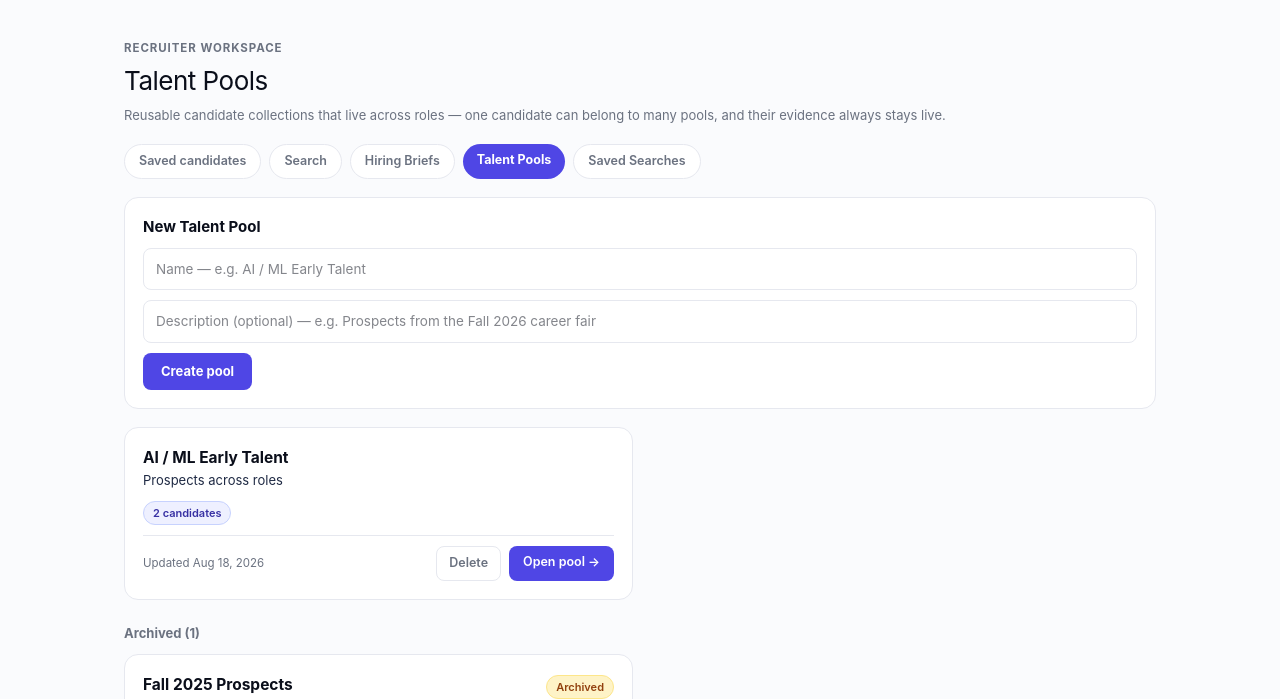
it: PoolsListView › requires a name before creating
Expected: the heading "AI / ML Early Talent" is shown, [143,448,288,467]
Click the button with test id "pools-create-submit".
click(198, 371)  # box [143,352,252,390]
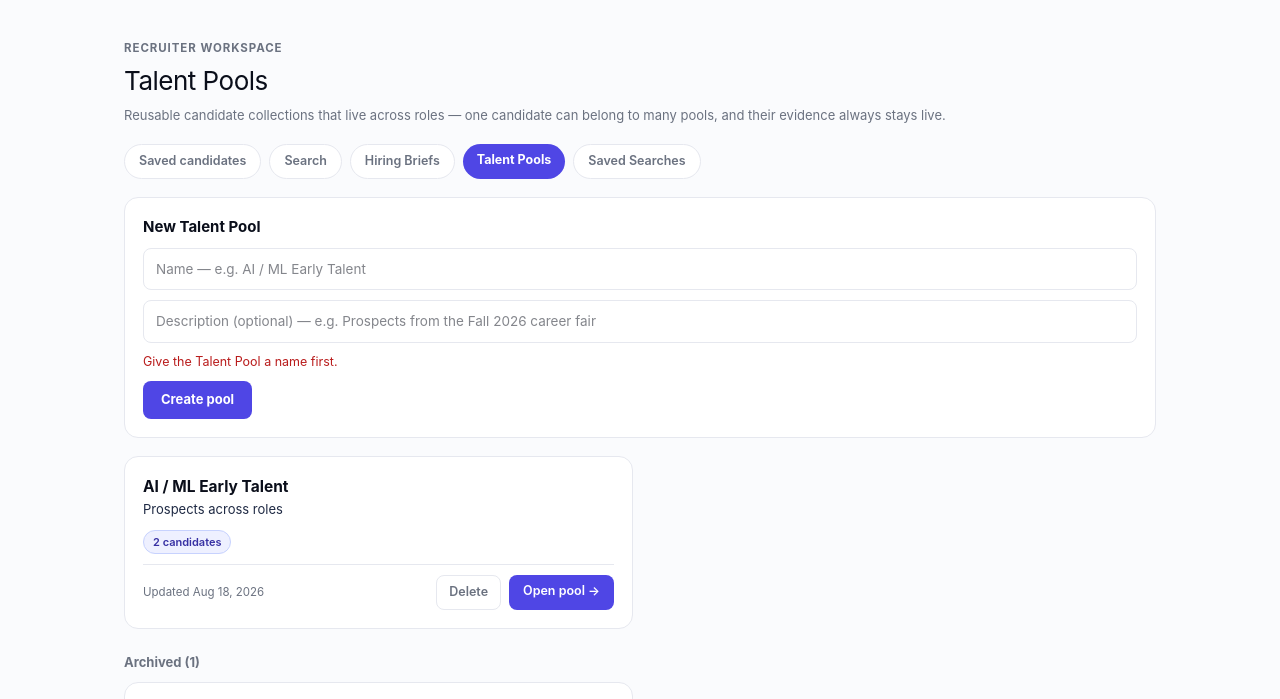
Expected: the text with test id "pools-create-error" reads "Give the Talent Pool a name first.", [143,354,338,368]
